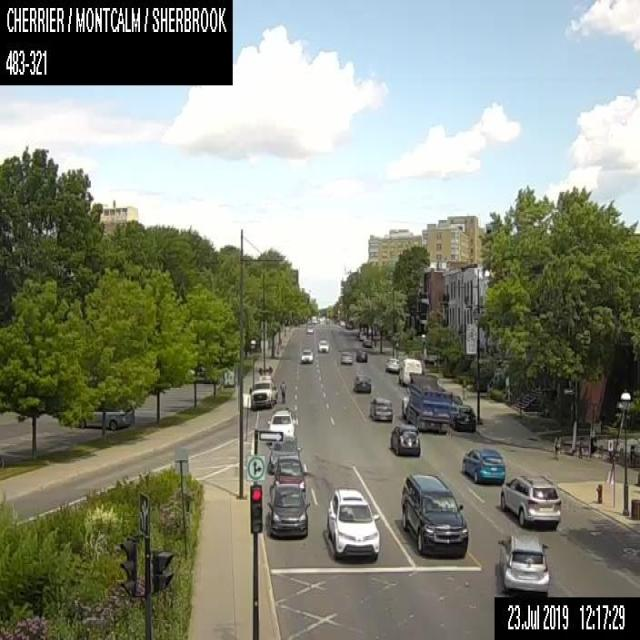pedestrian: (552, 433, 561, 459), (279, 379, 285, 404)
vehicle: (400, 474, 468, 559), (326, 489, 380, 560), (497, 532, 550, 596), (499, 476, 560, 526), (401, 371, 450, 433), (266, 485, 310, 536), (460, 448, 504, 482), (77, 404, 134, 429), (273, 454, 306, 493), (267, 436, 302, 472), (247, 365, 277, 407), (390, 424, 420, 458), (266, 408, 296, 440), (451, 404, 475, 432), (399, 356, 421, 384), (369, 397, 392, 420), (352, 372, 371, 392), (385, 357, 398, 372), (300, 348, 312, 363), (340, 350, 352, 364), (354, 348, 366, 361), (317, 338, 328, 352), (362, 336, 371, 346), (357, 331, 366, 339), (305, 324, 313, 333), (346, 320, 352, 328)
